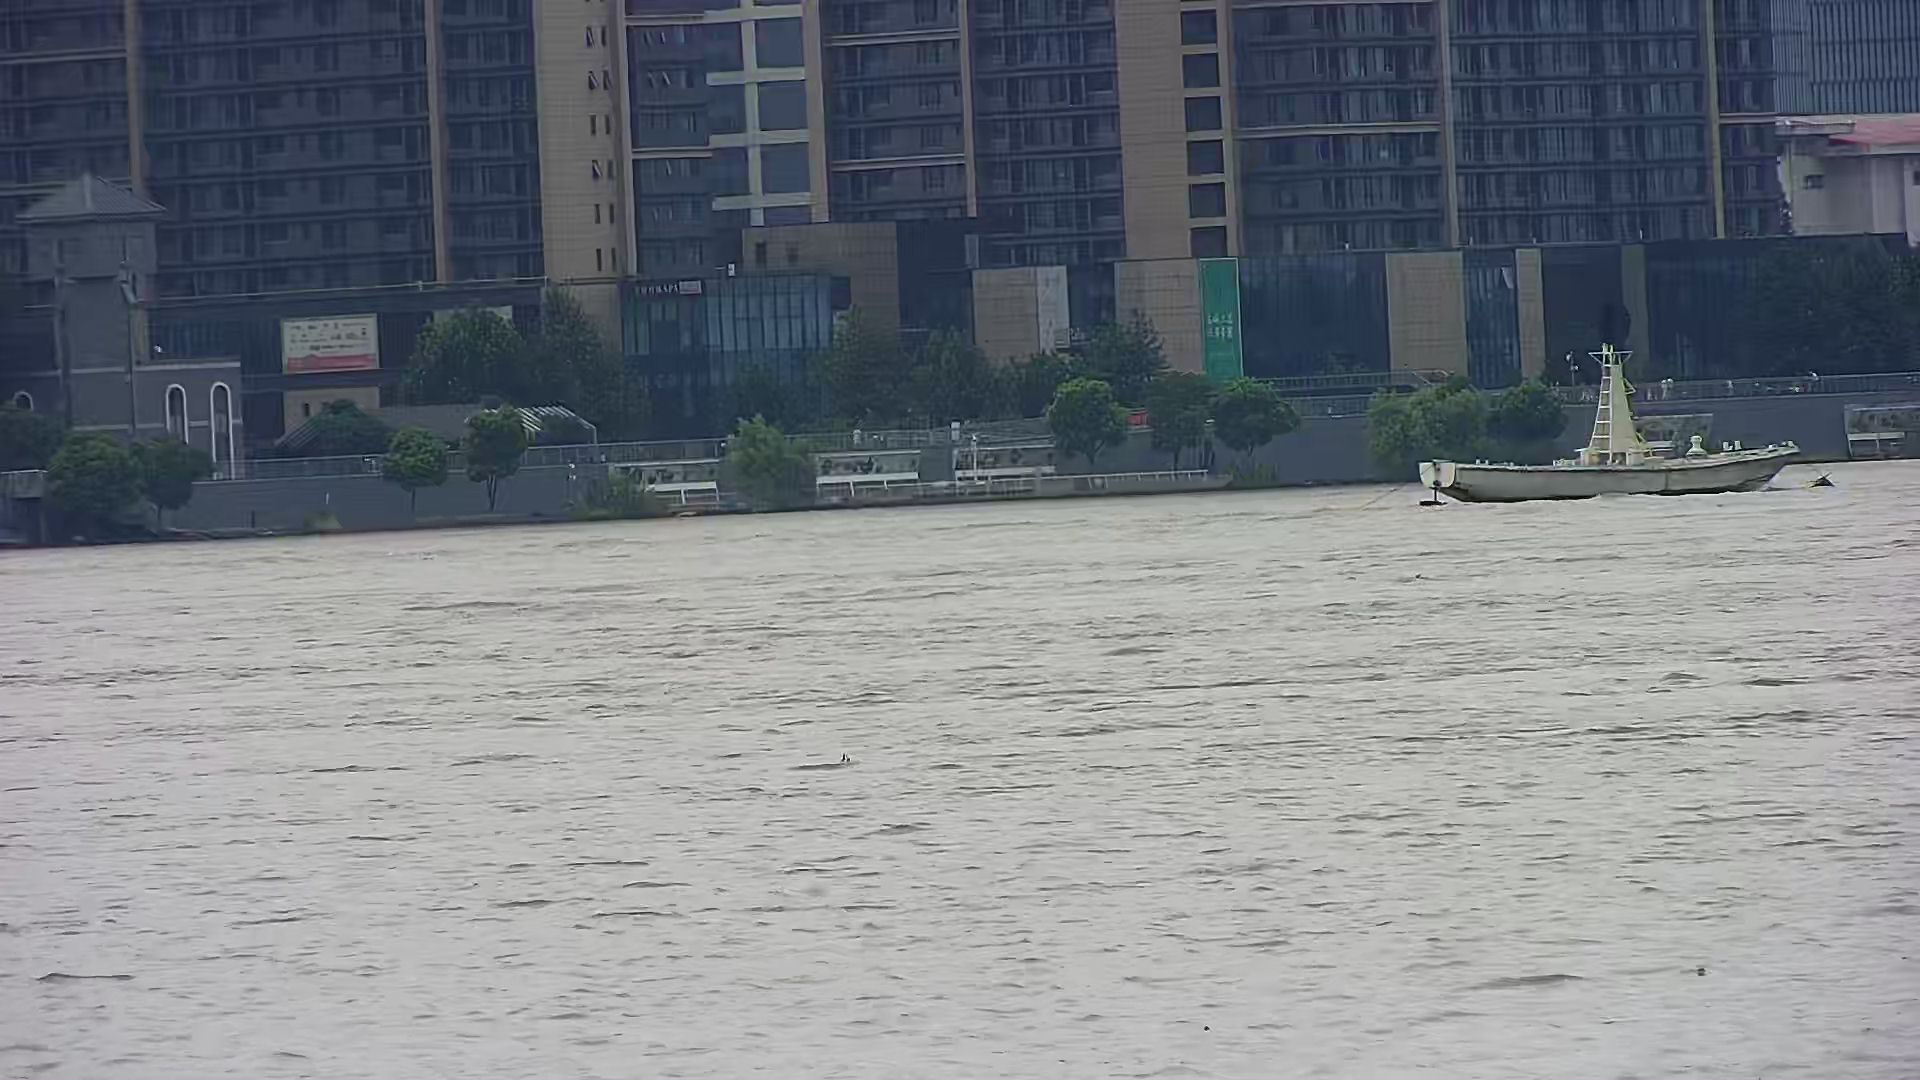boat: (1415, 303, 1803, 506)
